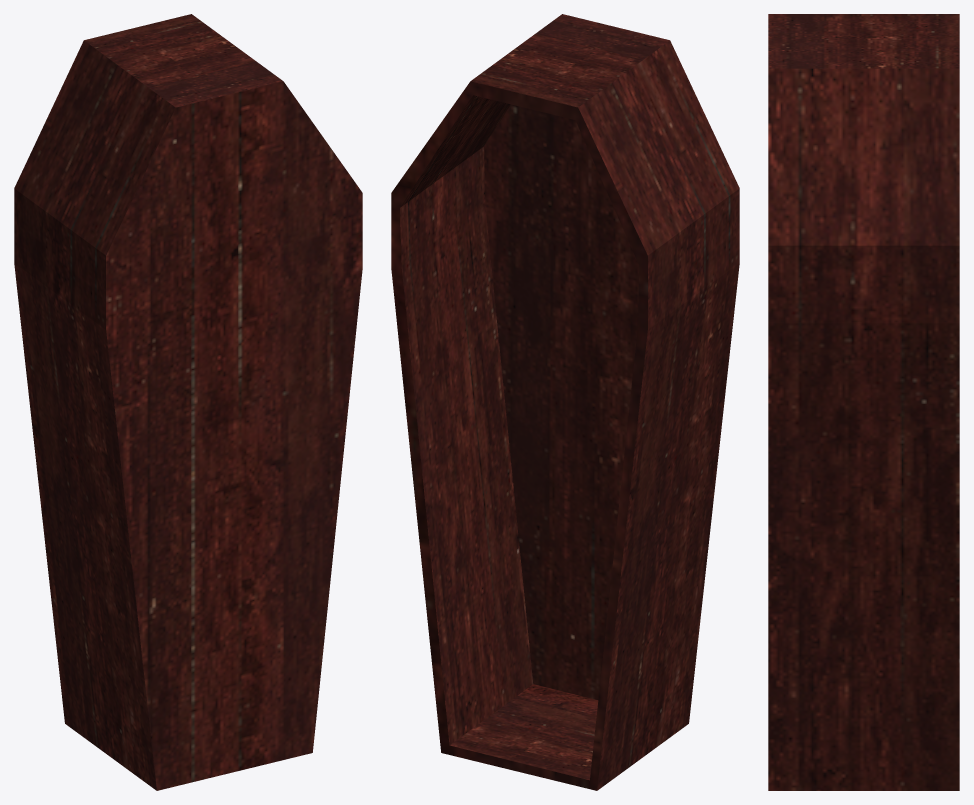
The model's file is coffin_open.fbx.
3 views of the same model, side by side, from view 1: azimuth 30°, elevation 25°; view 2: azimuth 150°, elevation 25°; view 3: azimuth 270°, elevation 25° (orthographic). The views are drawn at different scales.
Visible parts, largest first — view 1: Cube; view 2: Cube; view 3: Cube.
Boxes of the visible parts, left/top/right/bottom form: Cube: left=14, top=14, right=362, bottom=790; Cube: left=391, top=14, right=739, bottom=790; Cube: left=768, top=14, right=959, bottom=790.
Bounding box in the file's own units: 72 × 182 × 44.67.
1 material, 1 textured.
